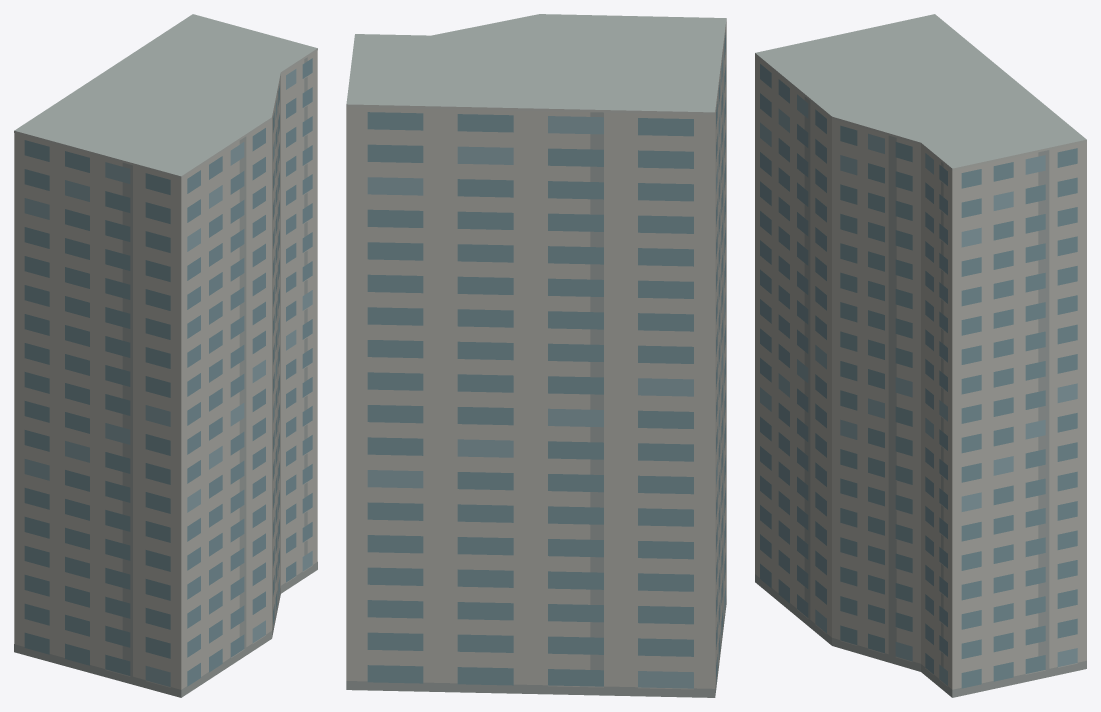
Rendered from residential-8b89a1c8-58f2-45d8-8ae9-dc612aac3739.glb.
3 views of the same model, side by side, from view 1: azimuth 30°, elevation 25°; view 2: azimuth 150°, elevation 25°; view 3: azimuth 270°, elevation 25° (orthographic). The views are drawn at different scales.
Parts seen in each view (by area): view 1: residential-8b89a1c8-58f2-45d8-8ae9-dc612aac3739.tmp; view 2: residential-8b89a1c8-58f2-45d8-8ae9-dc612aac3739.tmp; view 3: residential-8b89a1c8-58f2-45d8-8ae9-dc612aac3739.tmp.
Part boxes in pixels (x1,y1,x2,y2): residential-8b89a1c8-58f2-45d8-8ae9-dc612aac3739.tmp: (14,14,317,697); residential-8b89a1c8-58f2-45d8-8ae9-dc612aac3739.tmp: (346,14,726,697); residential-8b89a1c8-58f2-45d8-8ae9-dc612aac3739.tmp: (755,14,1086,697).
Bounding box in the file's own units: 35.72 × 57 × 32.39.
